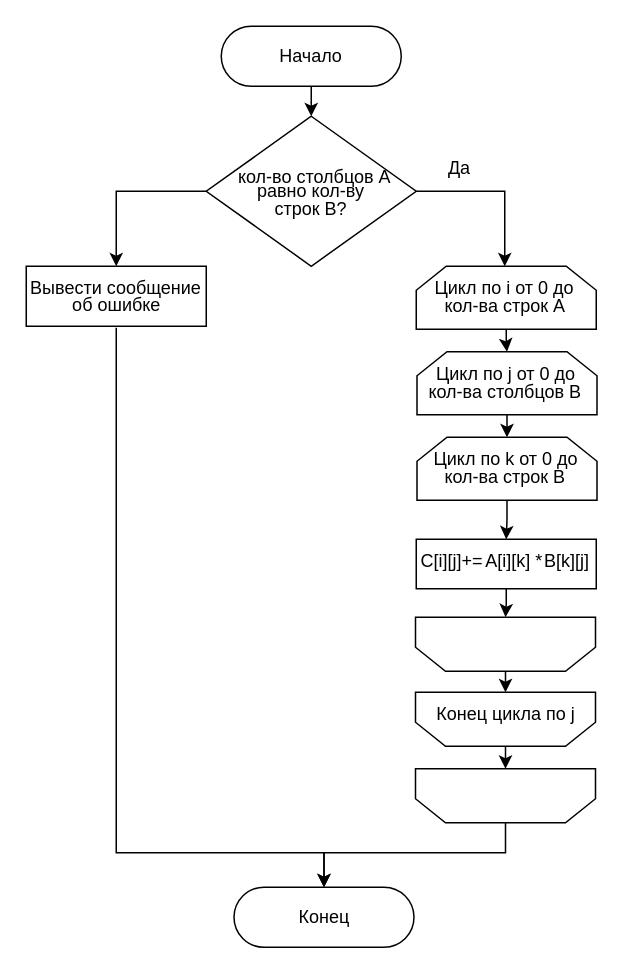
Image size: 636x974. Some labels were removed from this diagram. Here are the shapes that lost their labels. From the top down, the centre of each, then its label:
At (505,643): "Конец цикла по k".
At (505,795): "Конец цикла по i".
